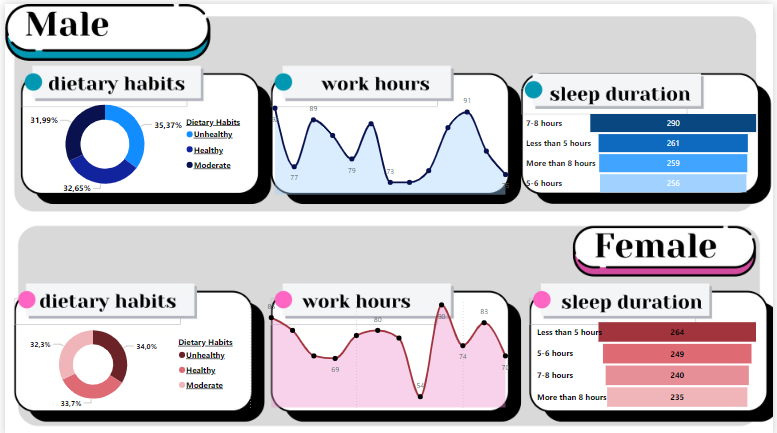

The dashboard page shown, as its layout file describes it:
{"tool":"powerbi","page":{"name":"gender","canvas":[1280,720],"ordinal":1},"visuals":[{"type":"donutChart","title":"Dietary Habits for Females","fields":{"Y":["CountNonNull(Female/diet.Gender)"],"Category":["Female/diet.Dietary Habits"]},"box":[0,521.7,406.7,158.3],"z":0},{"type":"funnel","title":"Sleep Duration","fields":{"Category":["Female/sleep.Sleep Duration"],"Y":["Sum(Female/sleep.Nombre)"]},"box":[881.7,521.7,380,158.3],"z":1000},{"type":"areaChart","fields":{"Category":["Female/work hours.Work Hours"],"Y":["Sum(Female/work hours.total_female)"]},"box":[392.9,482.9,455.7,217.1],"z":2000},{"type":"funnel","fields":{"Y":["Sum(Male/sleep.Nombre)"],"Category":["Male/sleep.Sleep Duration"]},"box":[862.9,175.7,398.6,147.1],"z":3000},{"type":"areaChart","fields":{"Category":["Male/work hours.Work Hours"],"Y":["Sum(Male/work hours.somme)"]},"box":[434.3,140,414.3,182.9],"z":4000},{"type":"donutChart","fields":{"Y":["CountNonNull(Male/diet.Gender)"],"Category":["Male/diet.Dietary Habits"]},"box":[27.1,140,392.9,187.1],"z":5000}]}

Visuals, with their boxes in screenshot pixels (x1, y1, x2, y2), scaled from the page's 1280x720 canvas onto the 777x433 screenshot:
"Dietary Habits for Females" donutChart: {"x1": 0, "y1": 314, "x2": 247, "y2": 409}
"Sleep Duration" funnel: {"x1": 535, "y1": 314, "x2": 766, "y2": 409}
areaChart - Female/work hours.Work Hours x Sum(Female/work hours.total_female): {"x1": 239, "y1": 290, "x2": 515, "y2": 421}
funnel - Sum(Male/sleep.Nombre) x Male/sleep.Sleep Duration: {"x1": 524, "y1": 106, "x2": 766, "y2": 194}
areaChart - Male/work hours.Work Hours x Sum(Male/work hours.somme): {"x1": 264, "y1": 84, "x2": 515, "y2": 194}
donutChart - CountNonNull(Male/diet.Gender) x Male/diet.Dietary Habits: {"x1": 16, "y1": 84, "x2": 255, "y2": 197}
